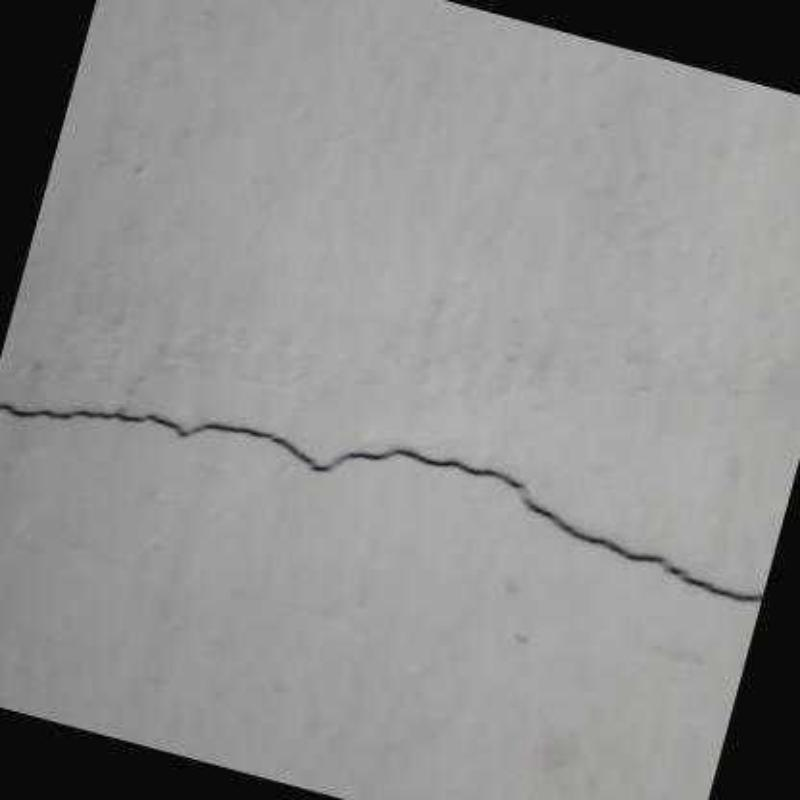pothole: (0, 402, 764, 604)
